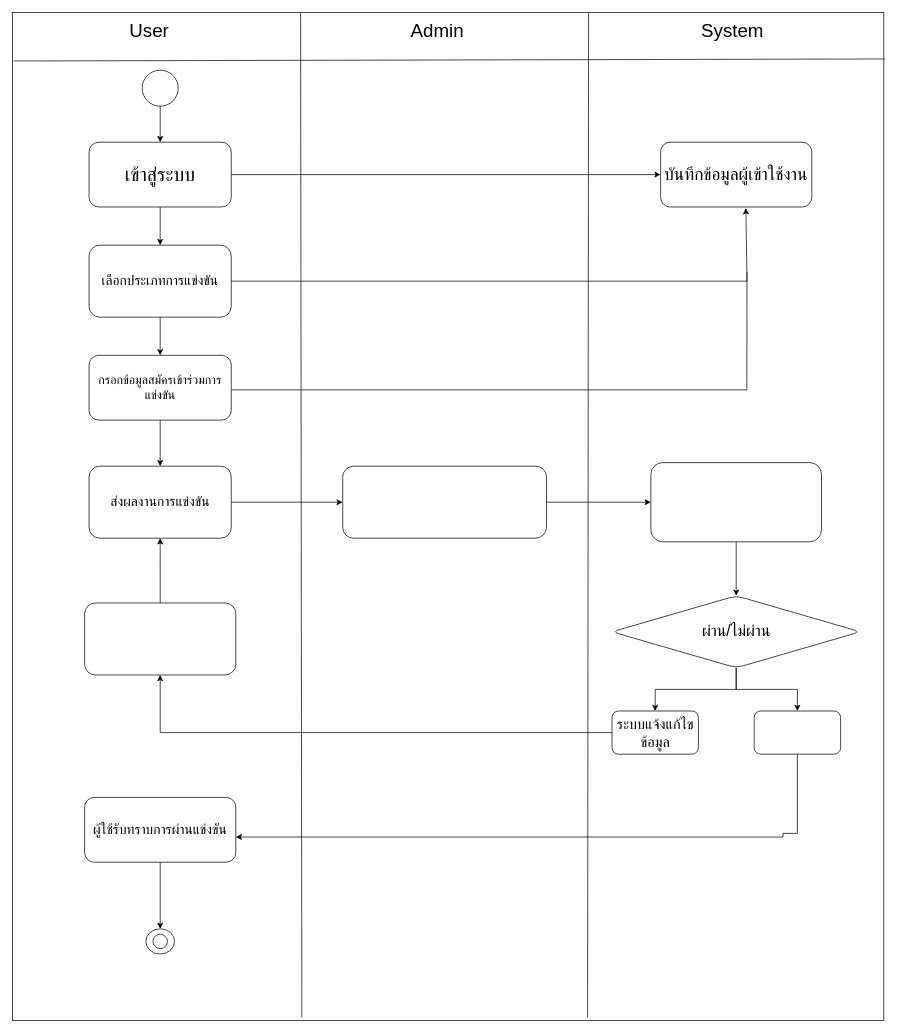
Image size: 899x1033. Some labels were removed from this diagram. The shapes that lost their labels are listed below. From the top down, each one's centre as x and y in pixels, then its label:
[444,501]: กรรมการตรวจเช็คผลงานและการแข่งขันต่างๆ
[736,502]: กรรมการส่งผลการแข่งขันเข้าสู่ระบบ
[160,638]: ผู้ใช้รับทราบการแก้ไขข้อมูล
[797,732]: ระบบแจ้งผ่านการแข่งขัน
